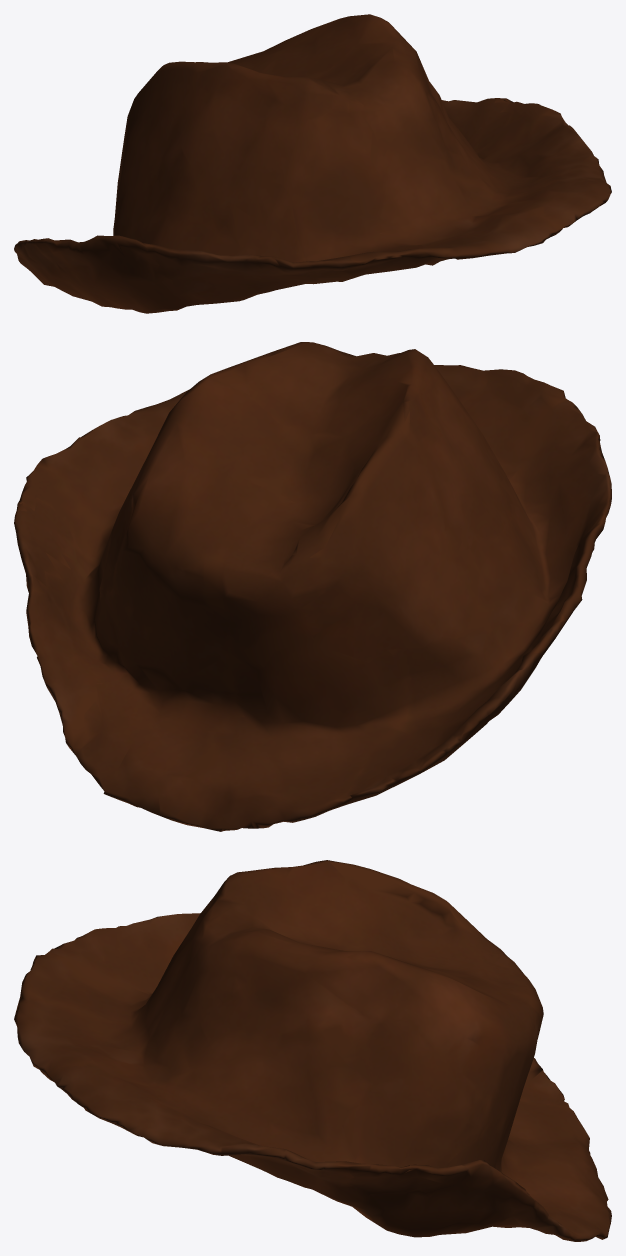
File: cowboy hat.glb
The picture shows the model from 3 angles, top to bottom: view 1: azimuth 30°, elevation 25°; view 2: azimuth 150°, elevation 25°; view 3: azimuth 270°, elevation 25°; orthographic projection. The views are drawn at different scales.
Parts seen in each view (by area): view 1: hat_cowboy_hat.001; view 2: hat_cowboy_hat.001; view 3: hat_cowboy_hat.001.
Part boxes in pixels (<box>): hat_cowboy_hat.001: <box>14,14,611,313</box>; hat_cowboy_hat.001: <box>14,342,611,831</box>; hat_cowboy_hat.001: <box>14,860,611,1241</box>.
Size of the model in its own units: 0.5328 by 0.3231 by 0.5426.
Materials: 1 (1 with a texture image).
